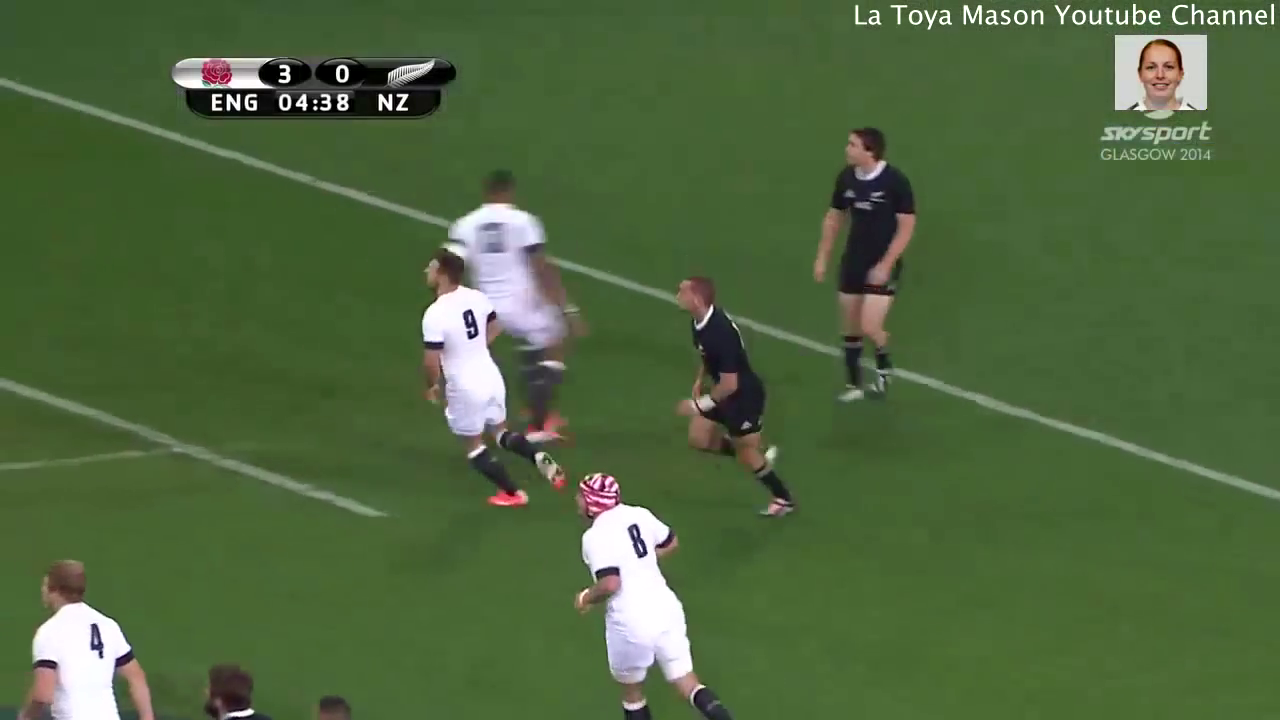player: (561, 469, 736, 720), (405, 248, 573, 504), (661, 272, 803, 521), (809, 120, 917, 404), (441, 163, 586, 355), (1, 554, 154, 720), (191, 661, 272, 720)
